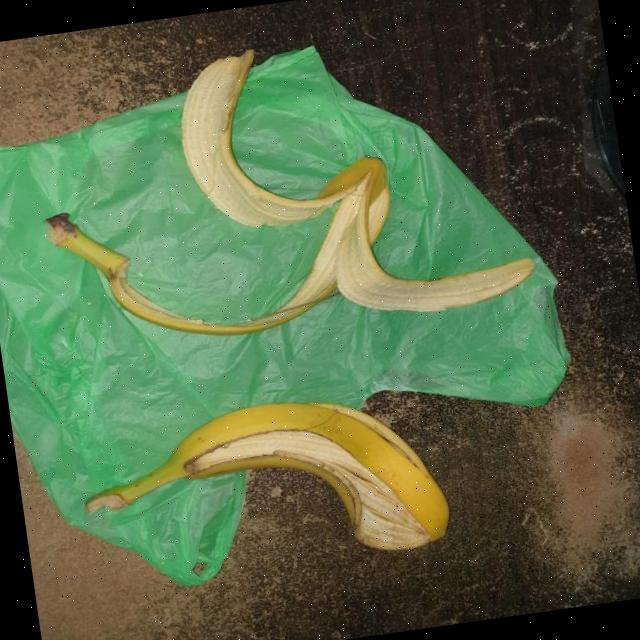banana-peel: (23, 13, 539, 364), (72, 378, 456, 595)
